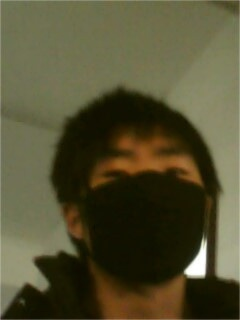face_mask: (90, 124, 199, 277)
